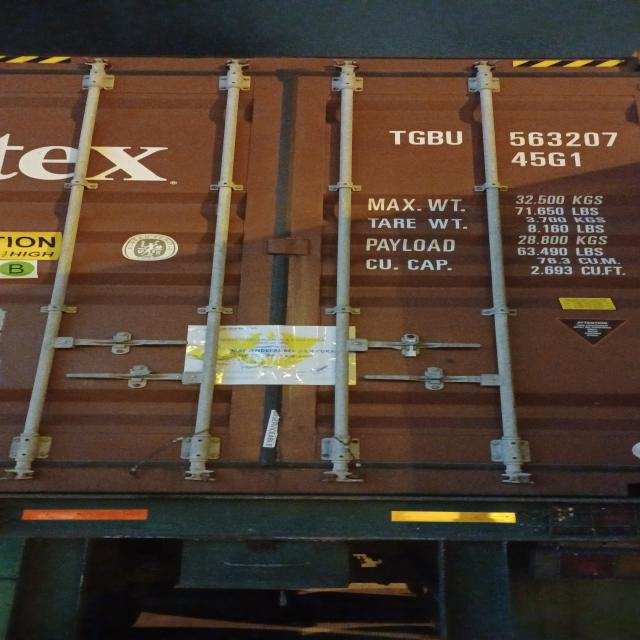seal: (398, 338, 438, 364)
